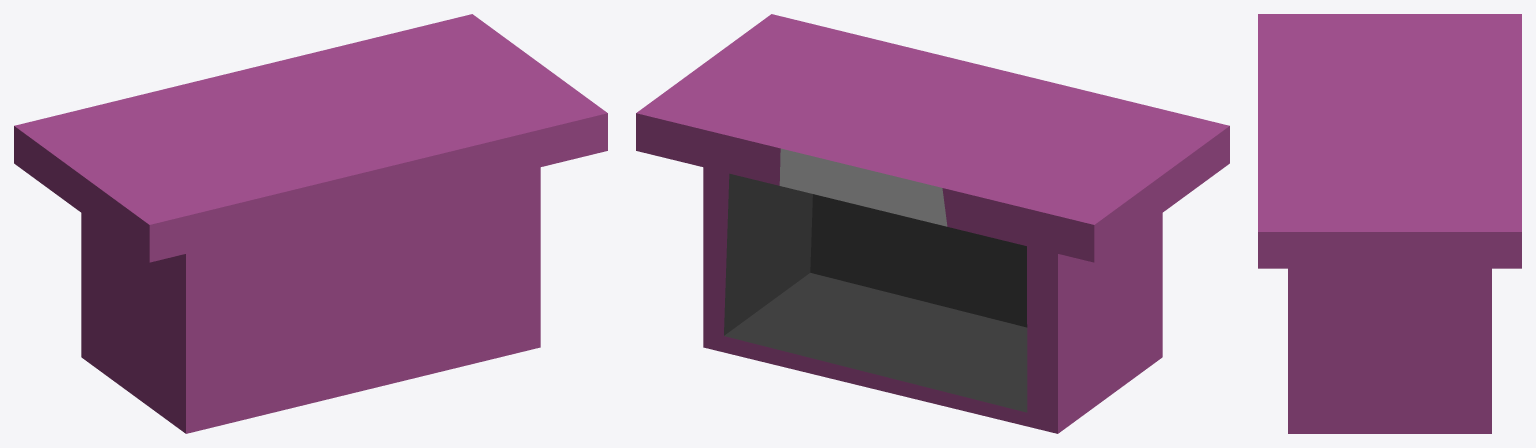
File: BANCA DE LIVROS.dae
The picture shows the model from 3 angles, left to right: view 1: azimuth 30°, elevation 25°; view 2: azimuth 150°, elevation 25°; view 3: azimuth 270°, elevation 25°; orthographic projection. The views are drawn at different scales.
Visible parts, largest first — view 1: Cube.287; view 2: Cube.287; view 3: Cube.287.
Part boxes in pixels (left/top/right/bottom): Cube.287: left=14, top=14, right=607, bottom=433; Cube.287: left=636, top=14, right=1229, bottom=433; Cube.287: left=1258, top=14, right=1521, bottom=433.
Size of the model in its own units: 26.54 by 13.59 by 12.89.
